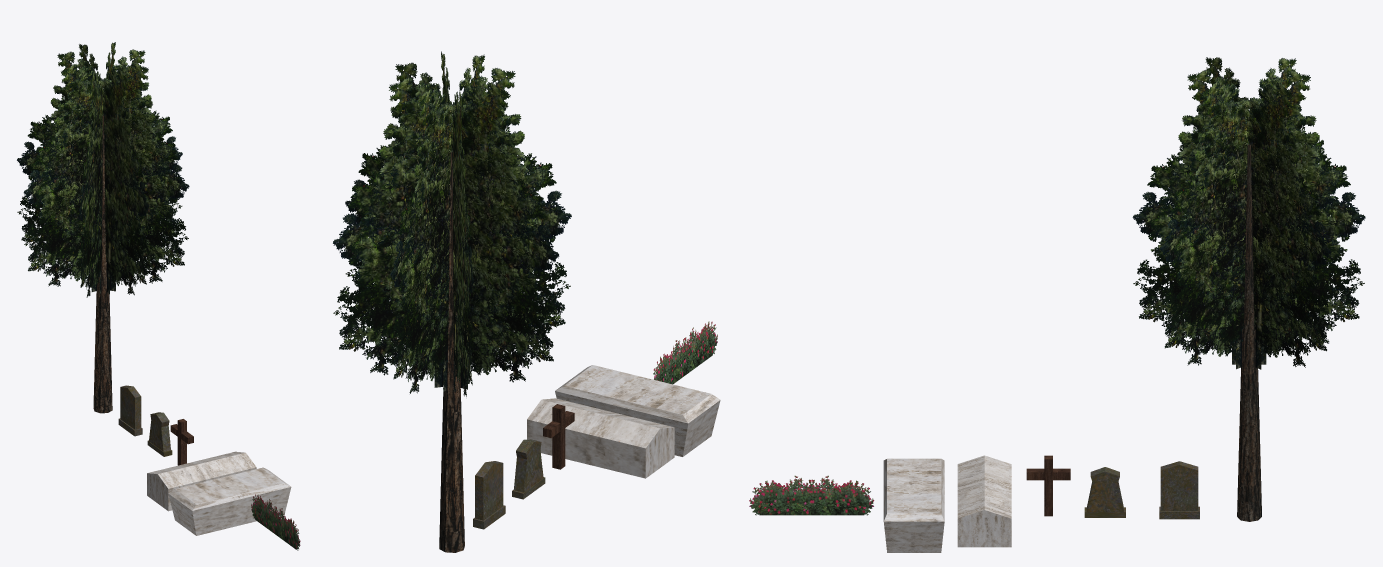
File: Cemetery Models.dae
3 renders of one model, left to right at view 1: azimuth 30°, elevation 25°; view 2: azimuth 150°, elevation 25°; view 3: azimuth 270°, elevation 25°, orthographic. The views are drawn at different scales.
Visible parts, largest first — view 1: Cubo.002, Cubo.006, Cubo.005, Cubo, Cubo.001, Cubo.003, Cubo.004; view 2: Cubo.002, Cubo.005, Cubo.006, Cubo, Cubo.001, Cubo.003, Cubo.004; view 3: Cubo.002, Cubo.006, Cubo.005, Cubo, Cubo.001, Cubo.003, Cubo.004.
Boxes of the visible parts, left/top/right/bottom form: Cubo.002: left=17, top=42, right=189, bottom=413; Cubo.006: left=168, top=467, right=291, bottom=535; Cubo.005: left=147, top=451, right=256, bottom=511; Cubo: left=251, top=494, right=300, bottom=550; Cubo.001: left=118, top=385, right=142, bottom=436; Cubo.003: left=147, top=412, right=172, bottom=456; Cubo.004: left=170, top=419, right=193, bottom=465; Cubo.002: left=333, top=51, right=571, bottom=552; Cubo.005: left=527, top=398, right=674, bottom=478; Cubo.006: left=555, top=365, right=720, bottom=456; Cubo: left=653, top=321, right=717, bottom=384; Cubo.001: left=473, top=461, right=505, bottom=529; Cubo.003: left=512, top=439, right=545, bottom=499; Cubo.004: left=543, top=404, right=574, bottom=469; Cubo.002: left=1132, top=57, right=1365, bottom=521; Cubo.006: left=883, top=458, right=944, bottom=552; Cubo.005: left=957, top=455, right=1011, bottom=547; Cubo: left=749, top=475, right=874, bottom=515; Cubo.001: left=1159, top=461, right=1199, bottom=519; Cubo.003: left=1084, top=467, right=1125, bottom=517; Cubo.004: left=1026, top=455, right=1070, bottom=516.
Size of the model in its own units: 10.91 by 28.25 by 23.36.
Materials: 11 (11 with a texture image).
